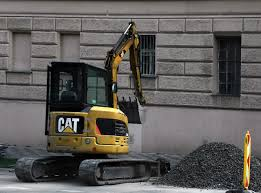excavator: (14, 22, 168, 184)
